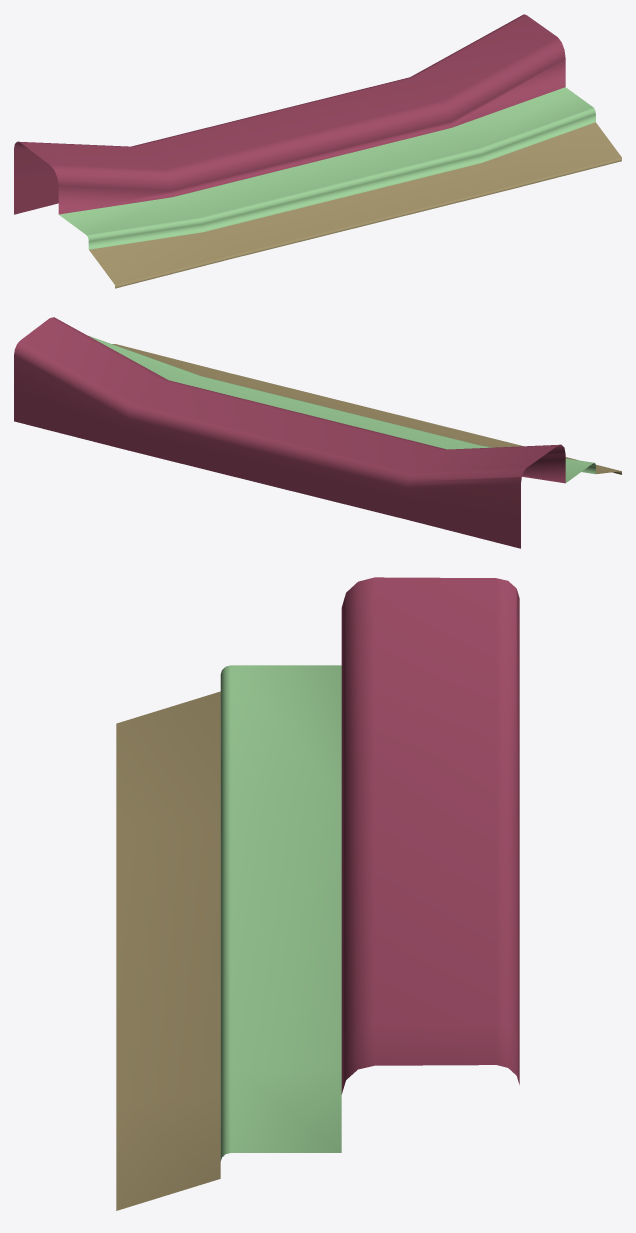
The model's file is Stadium_EndLow.fbx.
3 views of the same model, one above another, from view 1: azimuth 30°, elevation 25°; view 2: azimuth 150°, elevation 25°; view 3: azimuth 270°, elevation 25° (orthographic). The views are drawn at different scales.
Parts seen in each view (by area): view 1: Stadium_SideLow; view 2: Stadium_SideLow; view 3: Stadium_SideLow.
Boxes of the visible parts, x1,y1,x2,y2 form: Stadium_SideLow: (14, 14, 621, 288); Stadium_SideLow: (14, 317, 621, 548); Stadium_SideLow: (116, 577, 519, 1210).
Size of the model in its own units: 2220 by 336 by 764.
